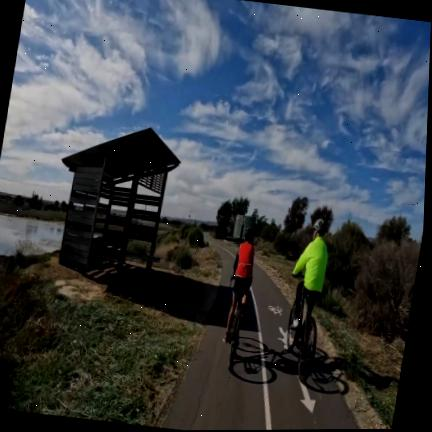Bike_Lane: (161, 243, 363, 430)
